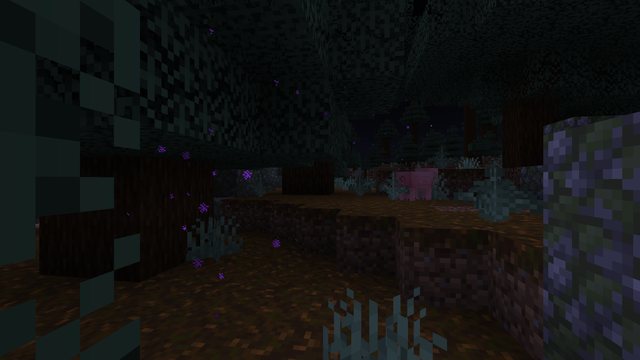cochons: (397, 170, 432, 200)
